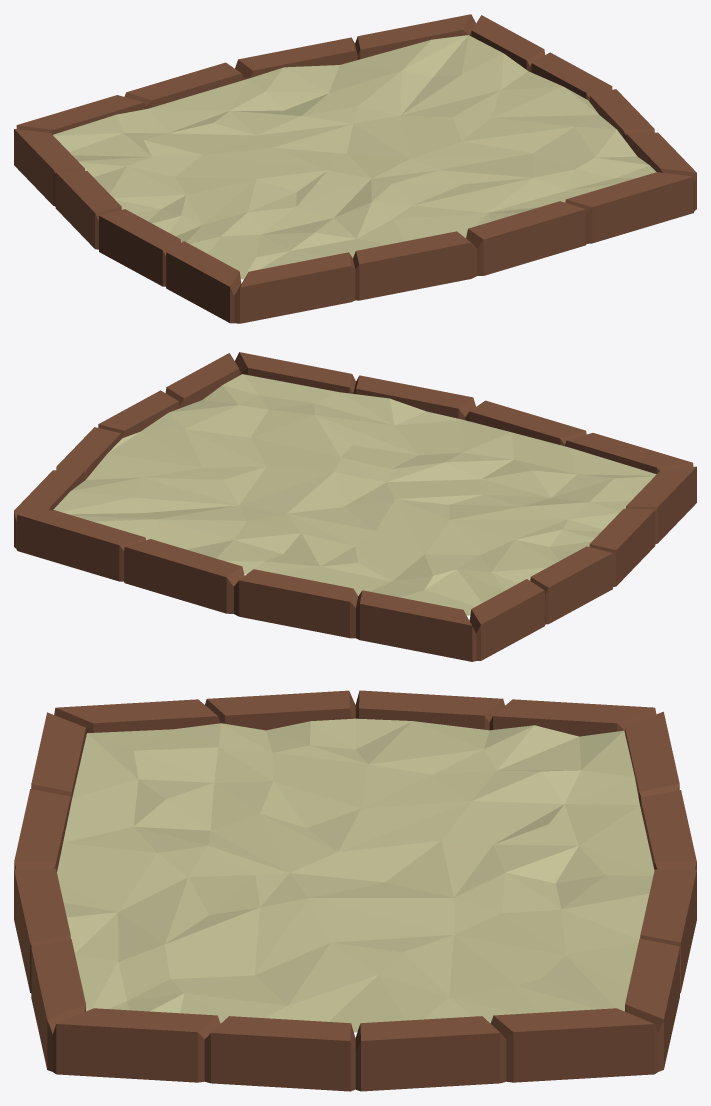
File: Sand_Garden_Wood_vc.fbx
3 views of the same model, one above another, from view 1: azimuth 30°, elevation 25°; view 2: azimuth 150°, elevation 25°; view 3: azimuth 270°, elevation 25° (orthographic). The views are drawn at different scales.
Visible parts, largest first — view 1: Sand_Garden_Wood_vc; view 2: Sand_Garden_Wood_vc; view 3: Sand_Garden_Wood_vc.
Boxes of the visible parts, x1=… form: Sand_Garden_Wood_vc: x1=14, y1=14, x2=696, y2=323; Sand_Garden_Wood_vc: x1=14, y1=352, x2=696, y2=661; Sand_Garden_Wood_vc: x1=14, y1=690, x2=696, y2=1091.
Bounding box in the file's own units: 849 × 56.97 × 699.
